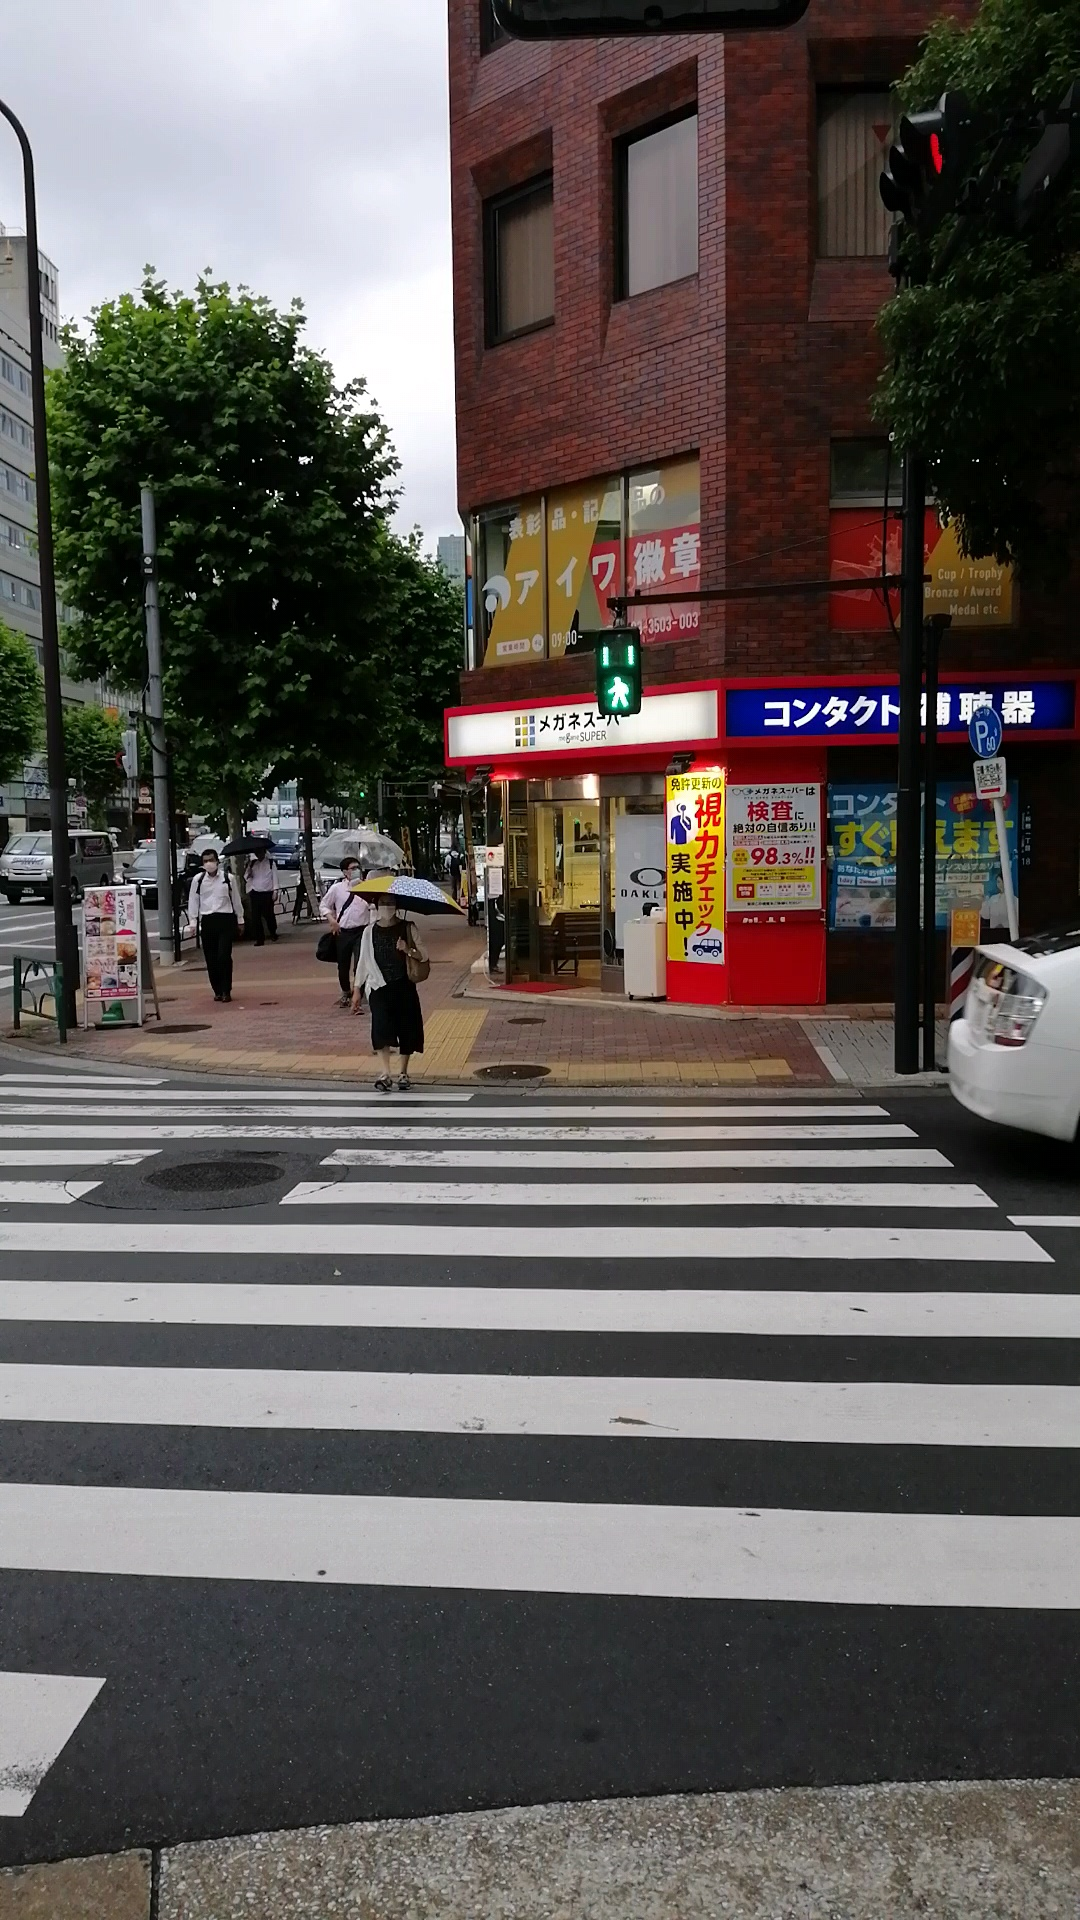green: (593, 629, 642, 713)
